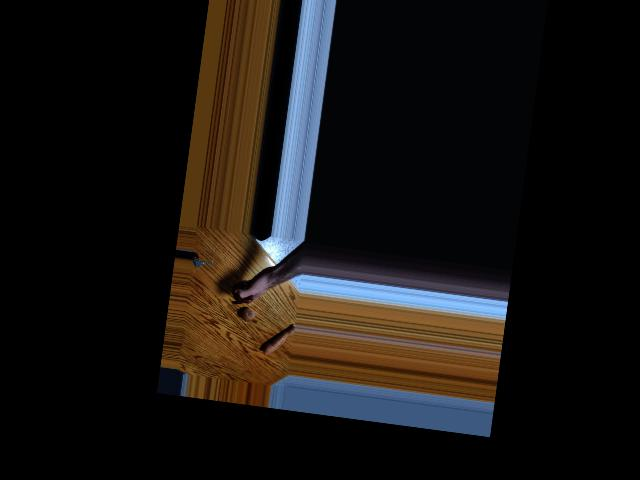onion: (239, 304, 255, 324)
